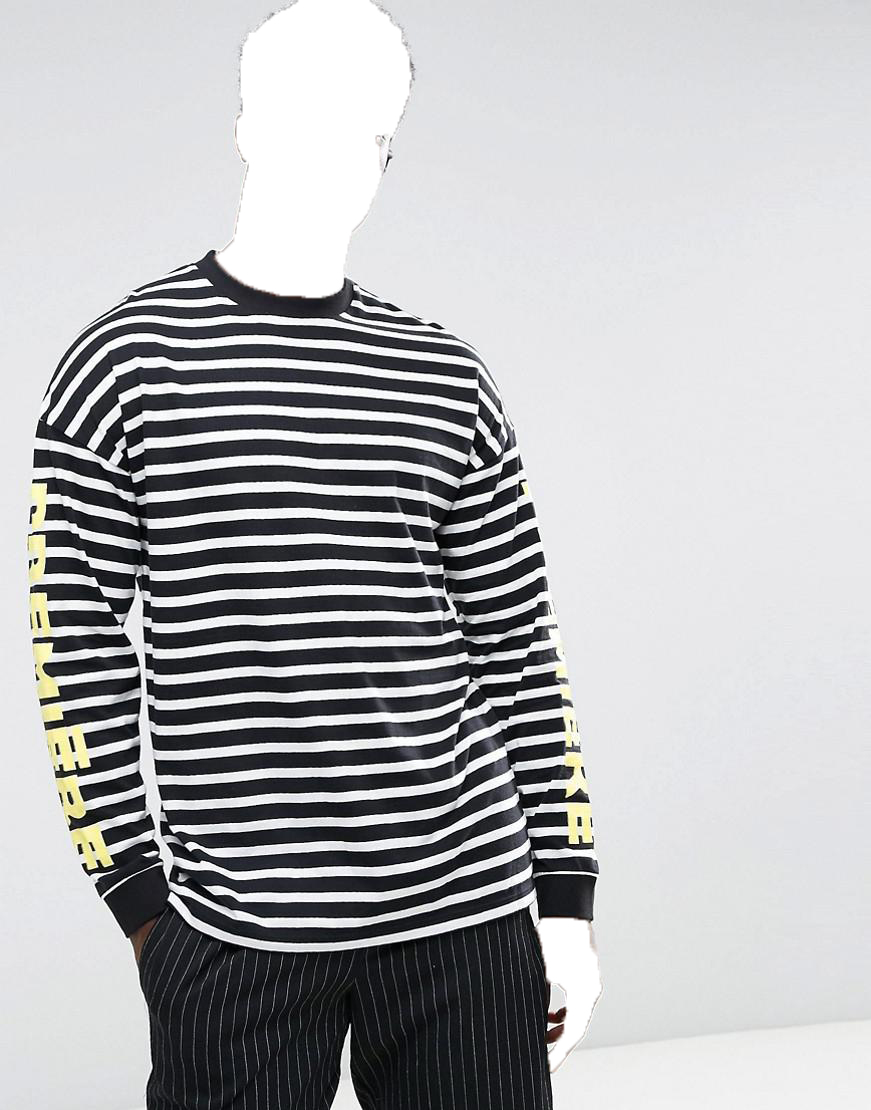teeshirt: (20, 252, 615, 952)
